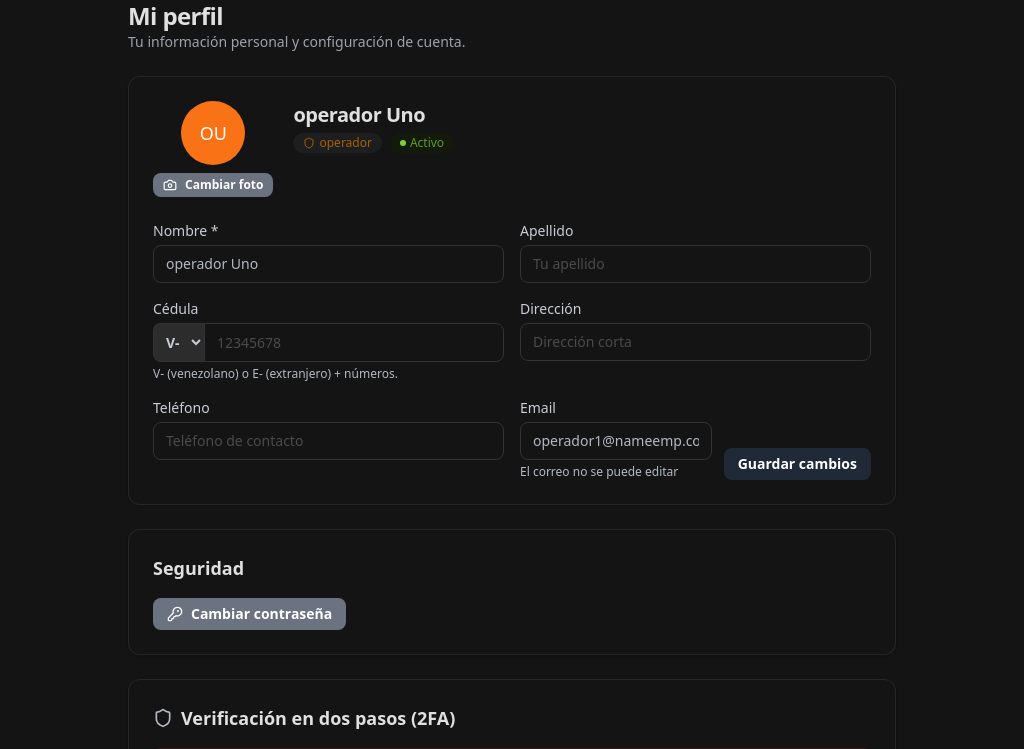
Test: ProfilePage — cambiar contraseña › manda las dos contraseñas al backend, refresca el usuario y limpia el formulario
Click the button "Cambiar contraseña": (250, 614) x1=153 y1=598 x2=346 y2=630
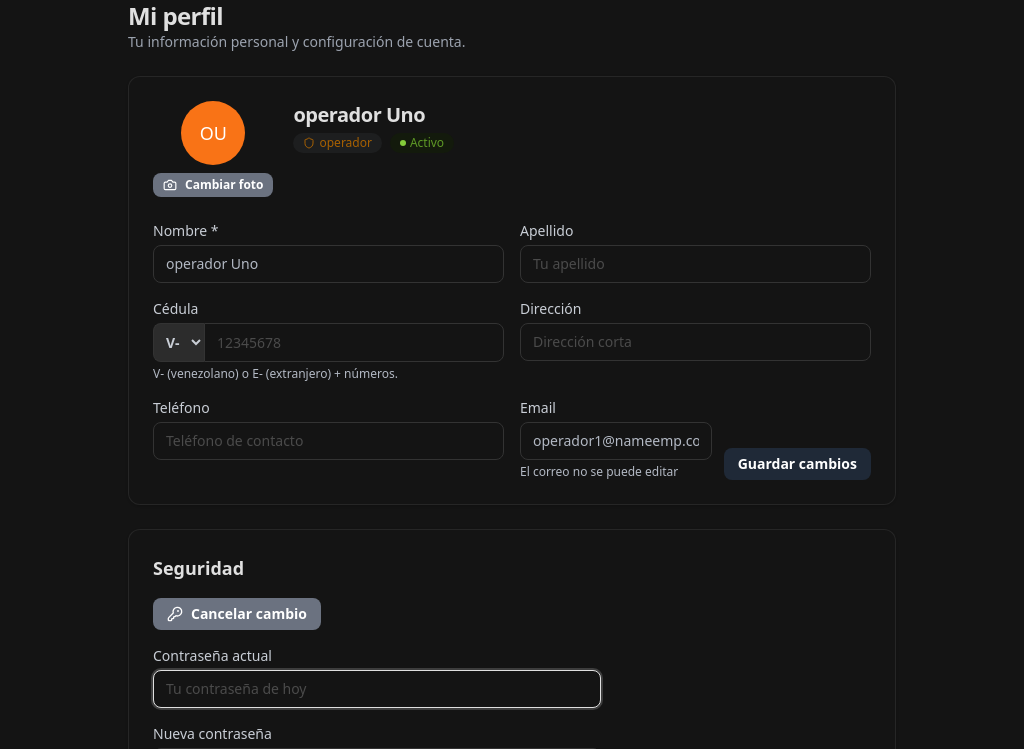
In the password field labelled "Contraseña actual": (377, 689) x1=153 y1=670 x2=601 y2=708, type "Batista2026!"
(page scrolled)
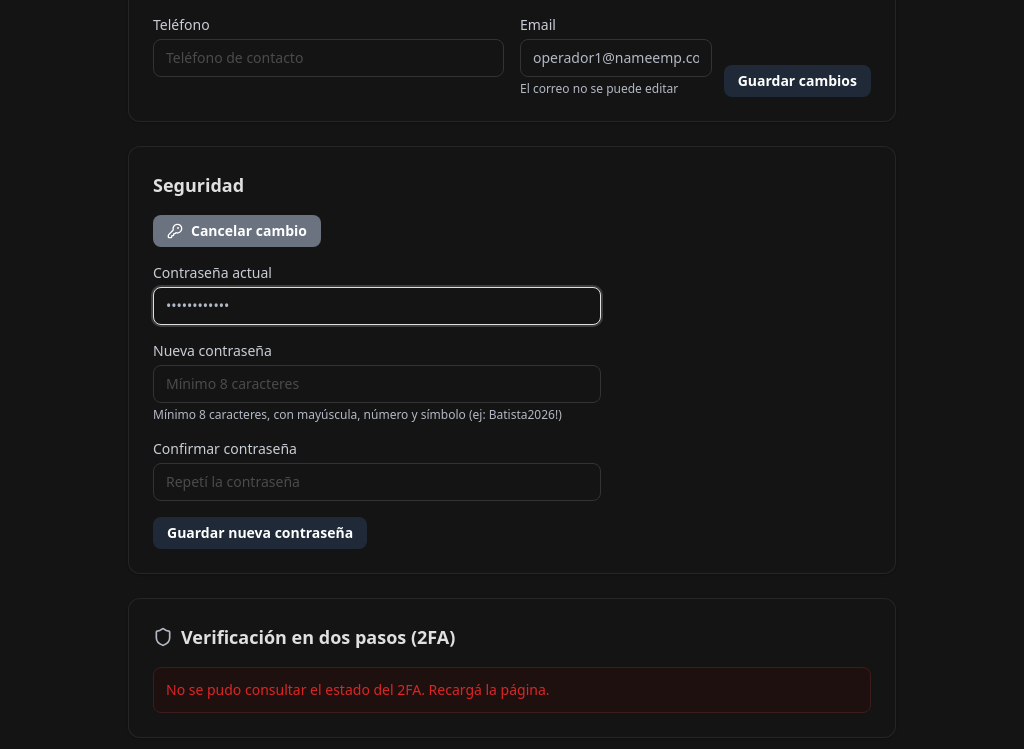
In the password field labelled "Nueva contraseña": (377, 384) x1=153 y1=365 x2=601 y2=403, type "Batista2027!"
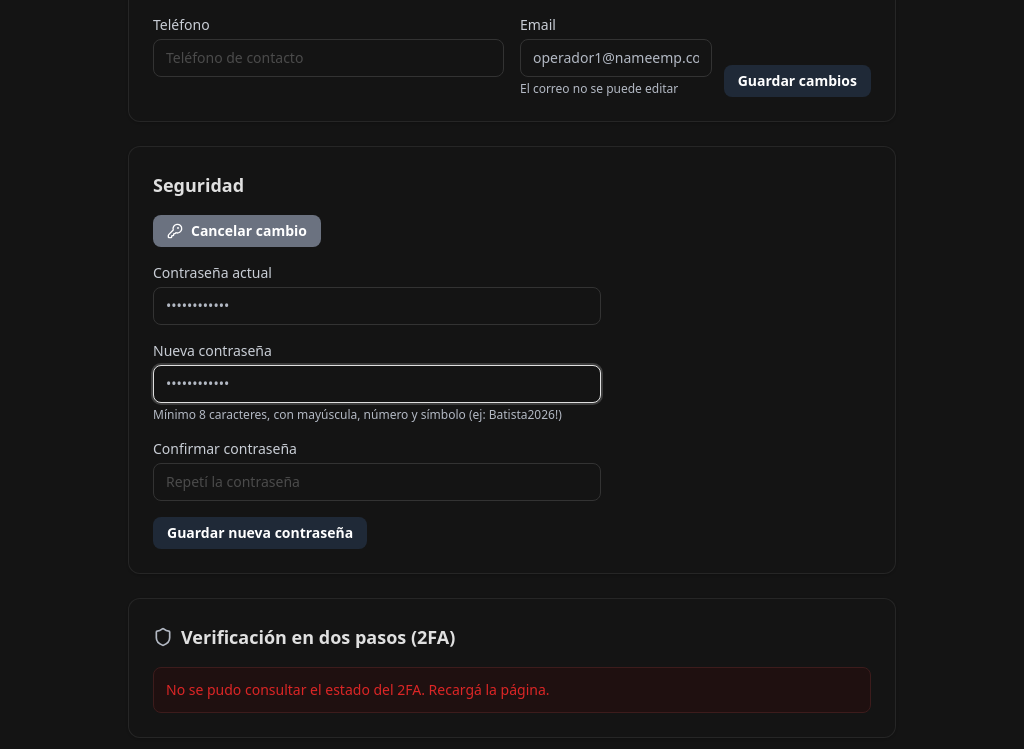
In the password field labelled "Confirmar contraseña": (377, 482) x1=153 y1=463 x2=601 y2=501, type "Batista2027!"
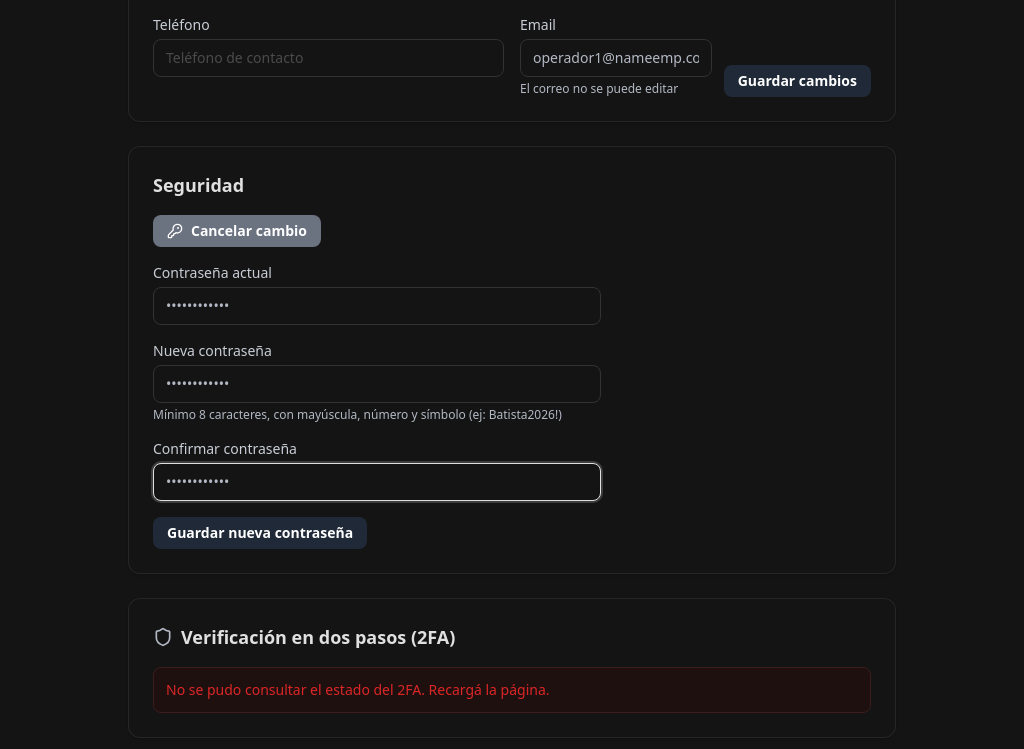
Click the button "Guardar nueva contraseña": (260, 533) x1=153 y1=517 x2=367 y2=549
(page scrolled)
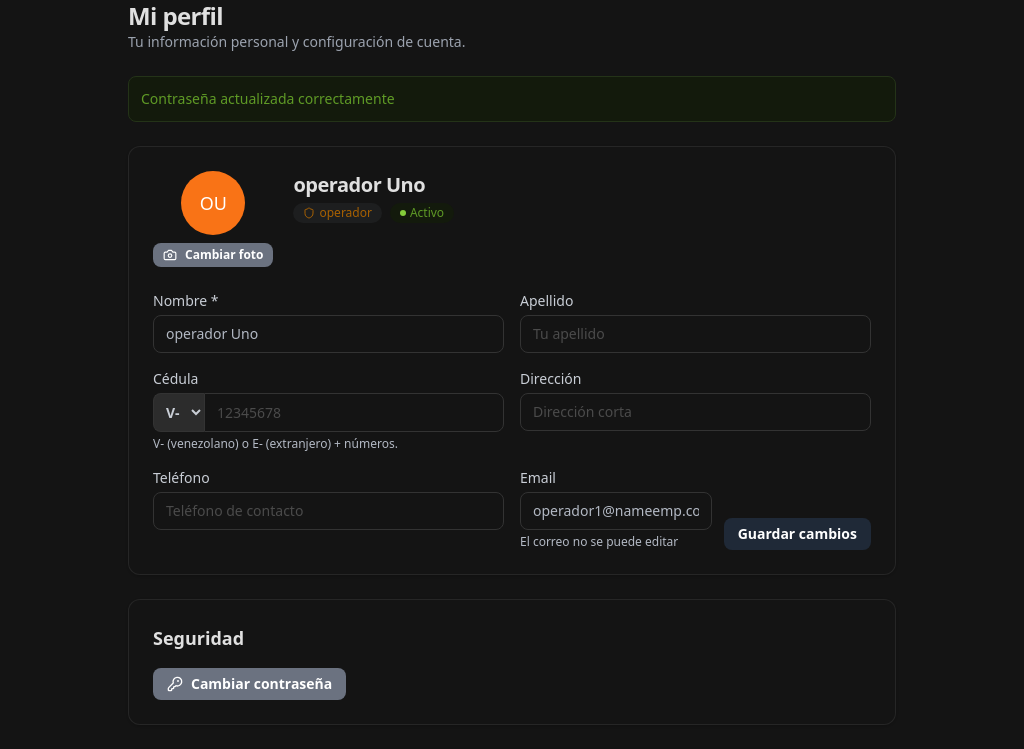
Expected: the text "Contraseña actualizada correctamente" is shown, x1=128 y1=76 x2=896 y2=122
